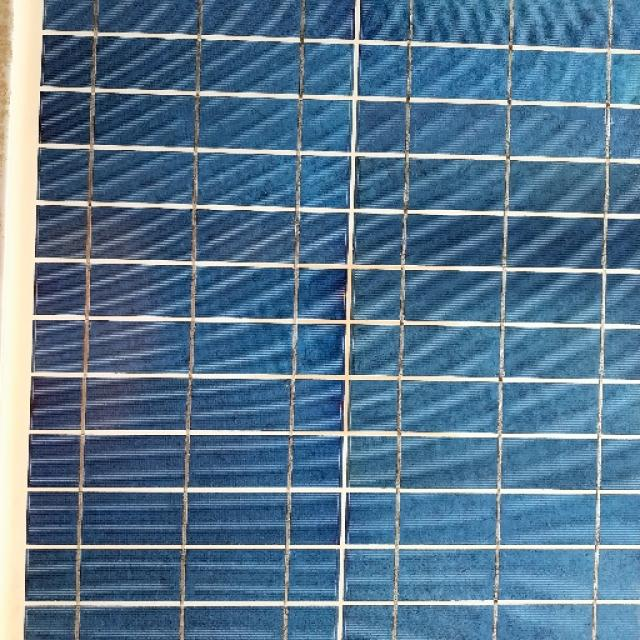Clean: (0, 15, 639, 640)
